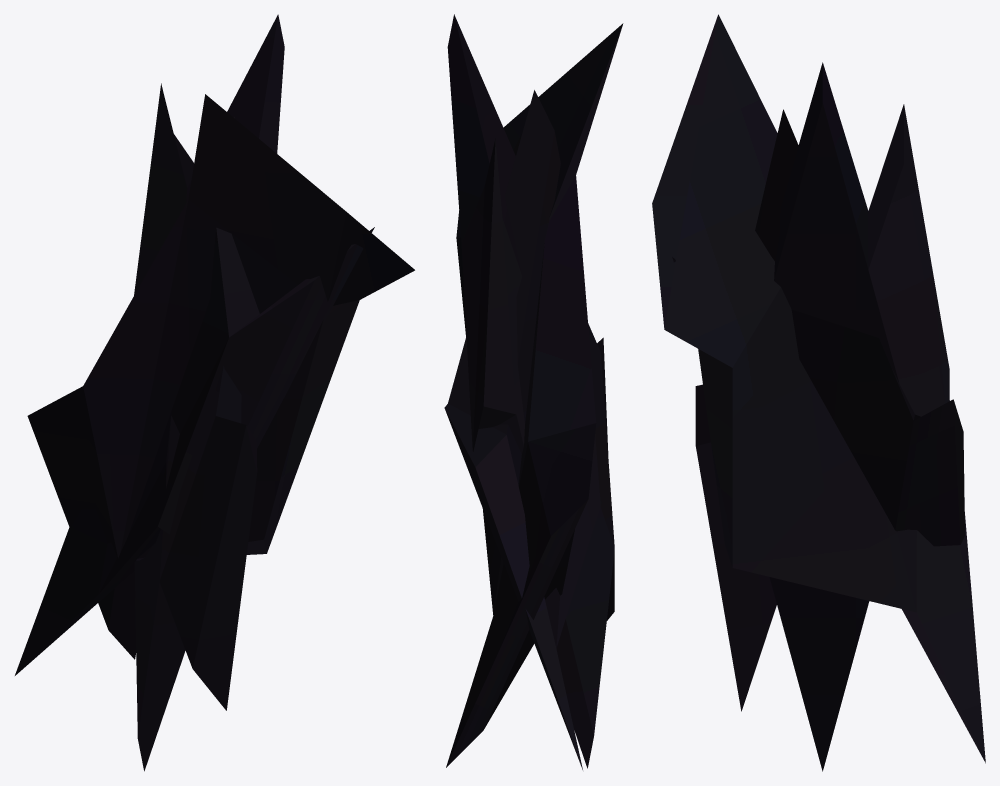
Rendered from Ashes.gltf.
The picture shows the model from 3 angles, left to right: view 1: azimuth 30°, elevation 25°; view 2: azimuth 150°, elevation 25°; view 3: azimuth 270°, elevation 25°; orthographic projection. The views are drawn at different scales.
Parts seen in each view (by area): view 1: ashes_3, ashes_1, ashes_2; view 2: ashes_3, ashes_1, ashes_2; view 3: ashes_3, ashes_1, ashes_2.
Boxes of the visible parts, <box> form: ashes_3: <box>27,94,414,659</box>; ashes_1: <box>134,14,284,771</box>; ashes_2: <box>15,117,374,675</box>; ashes_3: <box>446,23,623,767</box>; ashes_1: <box>447,14,614,768</box>; ashes_2: <box>444,90,601,769</box>; ashes_3: <box>652,14,985,763</box>; ashes_1: <box>695,62,949,771</box>; ashes_2: <box>672,109,964,546</box>.
Size of the model in its own units: 0.0525 by 0.1397 by 0.0541.
Materials: 1 (1 with a texture image).
